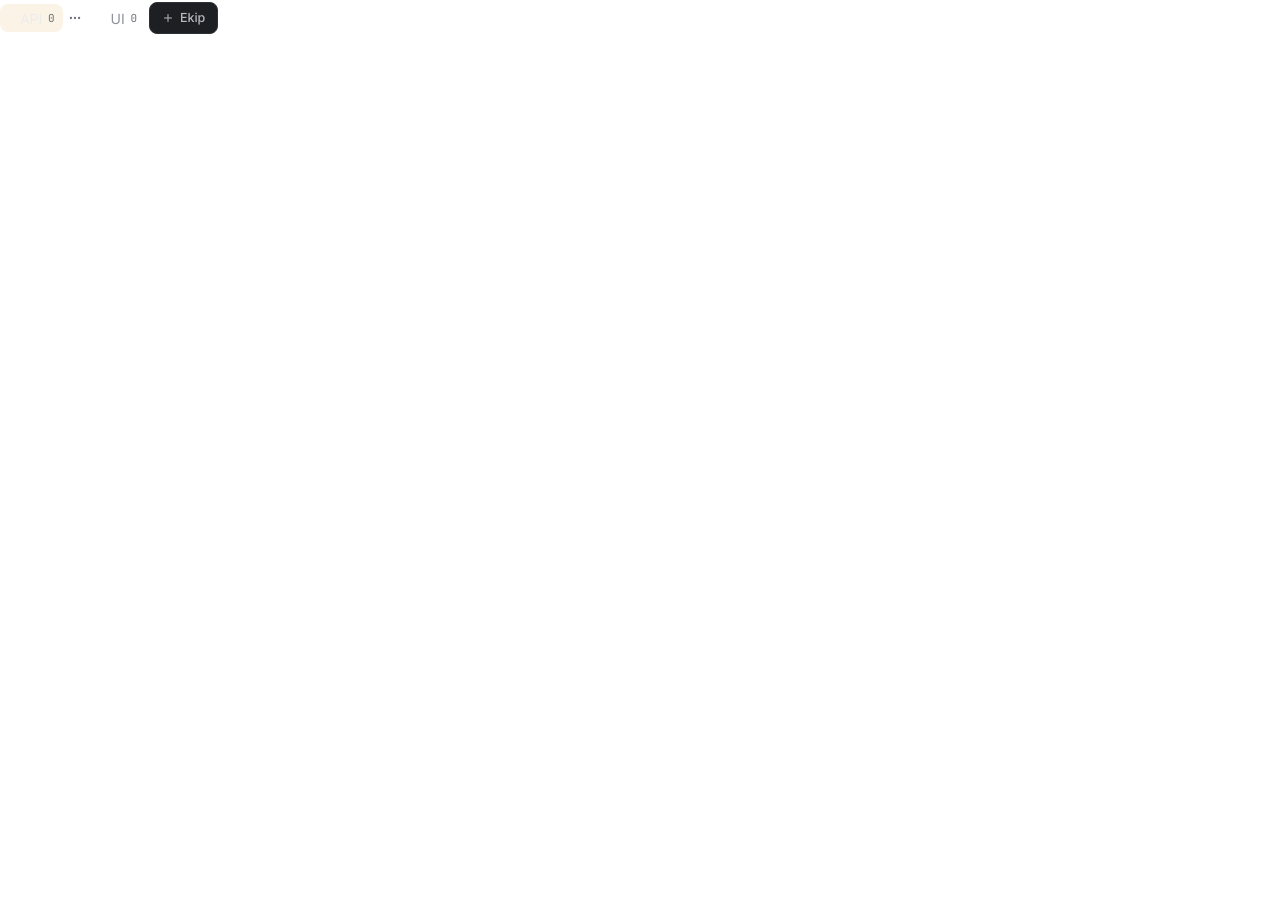
it: TeamTabs › kapatma: süreç yok ama panoda görev varsa onay soruluyor ve görevlerin silineceği yazıyor
Step 1. Right-click the tab "API 0" → (31, 18), box [0, 4, 63, 32]
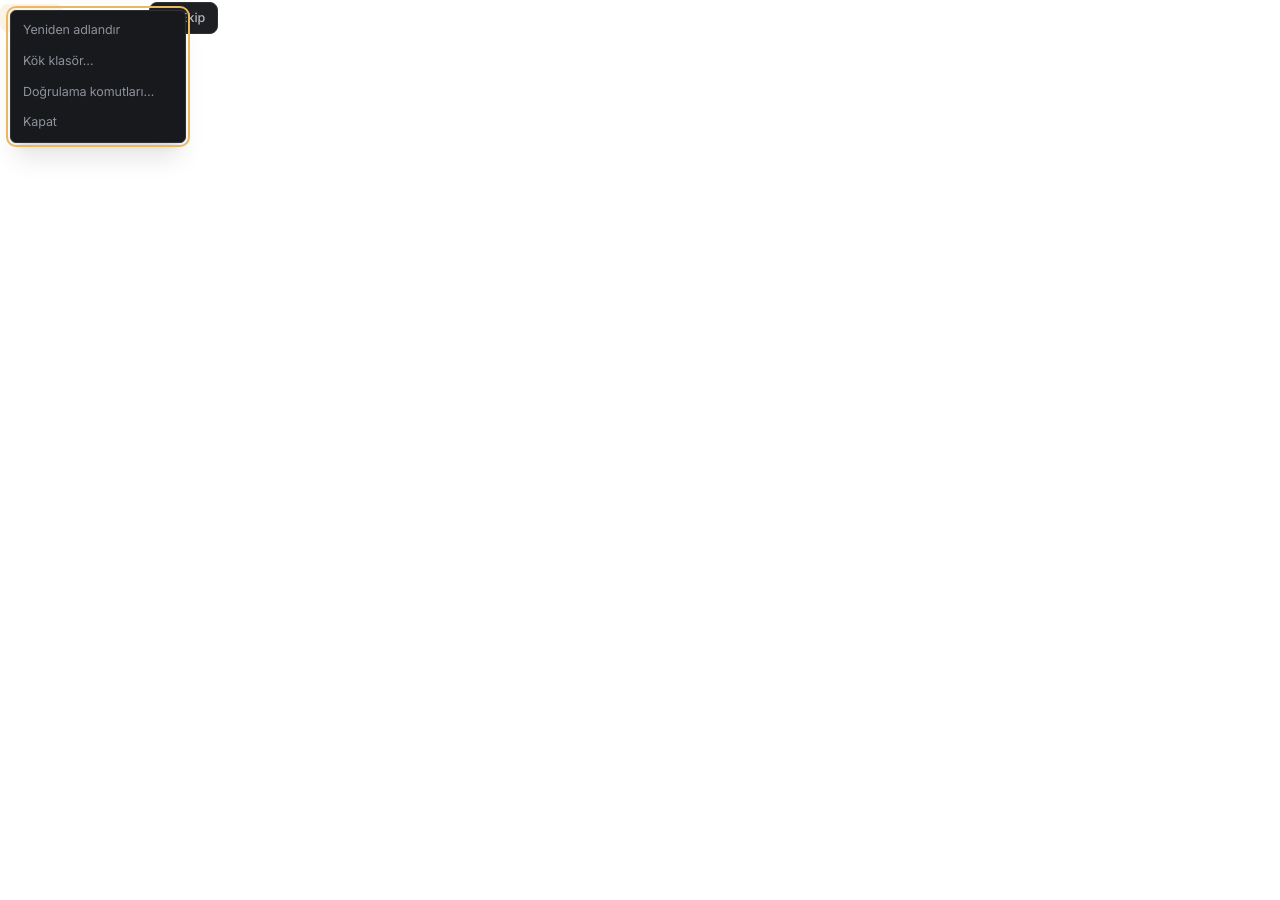
Step 2. Click the menu item "Kapat" → (98, 123), box [15, 107, 181, 138]
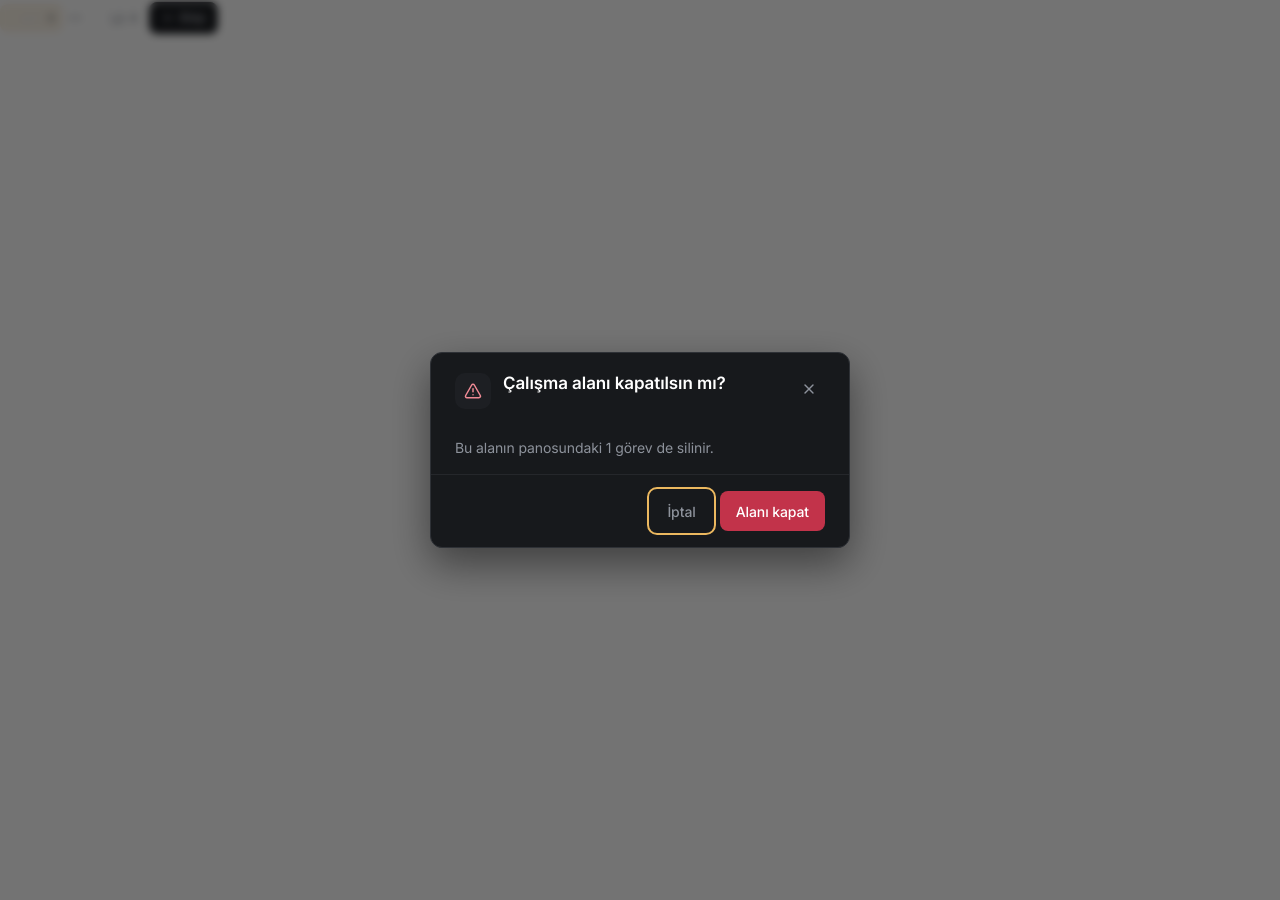
Expected: the dialog shows "Bu alanın panosundaki 1 görev de silinir.", [455, 439, 714, 456]
